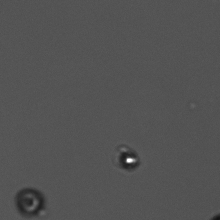Dead Cell: (12, 187, 48, 215)
Living Cell: (113, 143, 145, 171)
